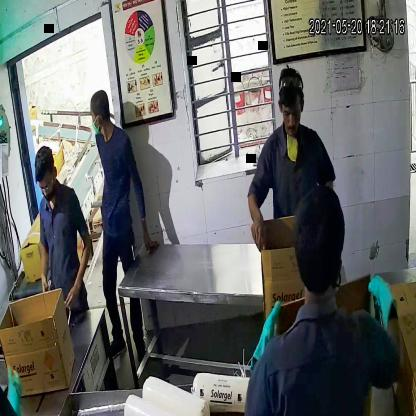no_goggles: (279, 104, 305, 123)
